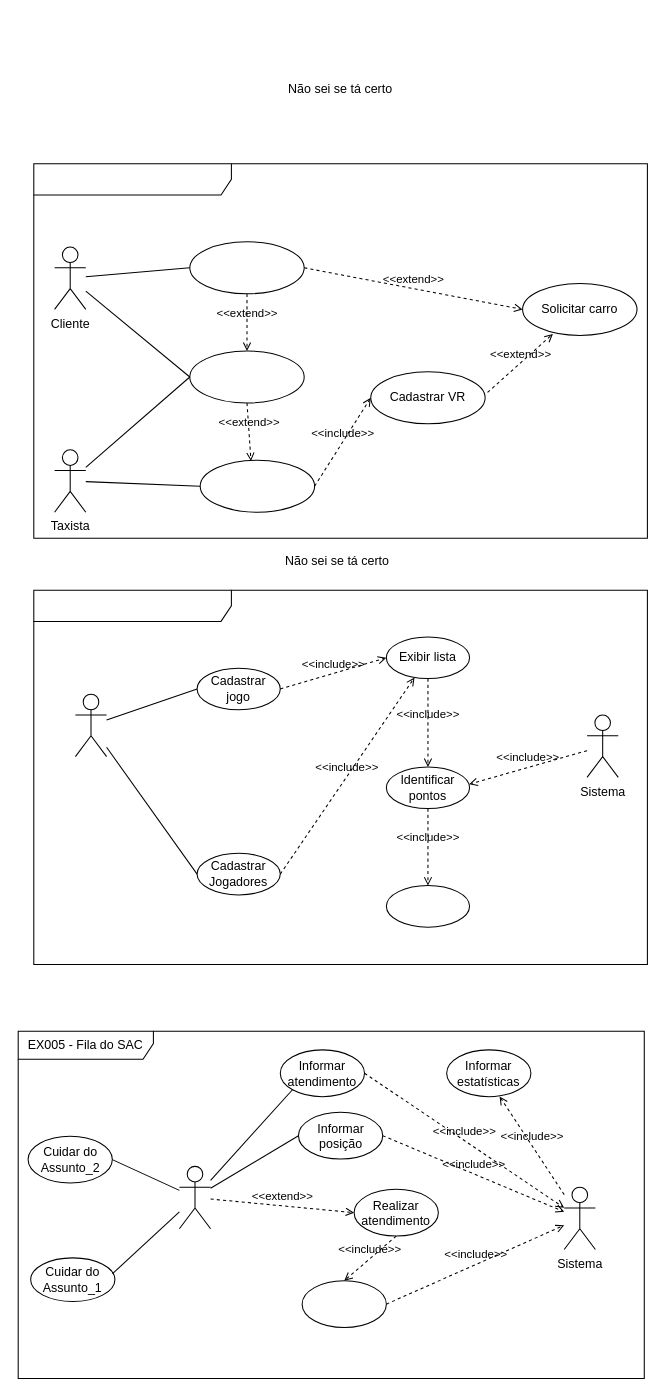
The diagram is 666 pixels wide and 1397 high, and some of its shapes have lost their labels. The box of each missing label's shape, as (x1, y1, x2, y2) in pixels:
Cadastrar carro: (199, 459, 315, 512)
Caixa: (178, 1165, 211, 1229)
EX003 - Rádio Taxi Mar & Sol: (33, 163, 647, 538)
EX004 - Cadastro do Marcão: (33, 589, 647, 965)
Exibir planel: (385, 885, 470, 927)
Marcão: (74, 693, 107, 757)
Realizar cadastro: (189, 241, 304, 294)
Realizar login: (189, 350, 304, 403)
Registrar atendimento: (301, 1280, 386, 1328)
